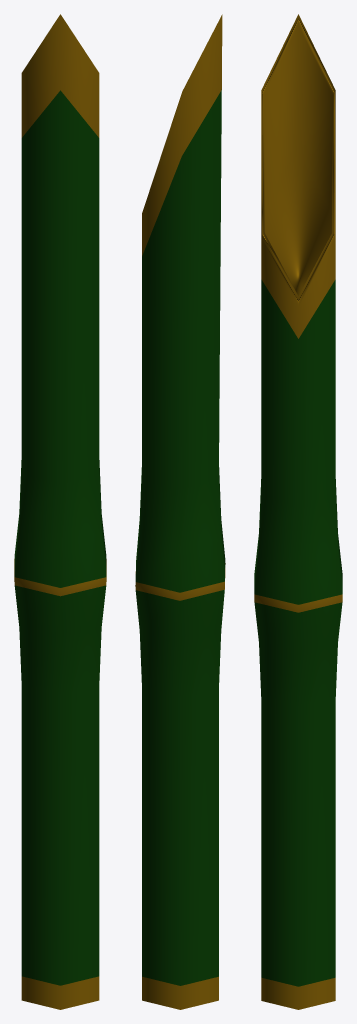
Rendered from BambooCutAv1.fbx.
The picture shows the model from 3 angles, left to right: view 1: azimuth 90°, elevation 25°; view 2: azimuth 150°, elevation 25°; view 3: azimuth 270°, elevation 25°; orthographic projection. The views are drawn at different scales.
Parts seen in each view (by area): view 1: BambooE.004; view 2: BambooE.004; view 3: BambooE.004.
Part boxes in pixels (x1,y1,x2,y2): BambooE.004: (14, 14, 106, 1009); BambooE.004: (135, 14, 225, 1009); BambooE.004: (254, 14, 342, 1009).
Size of the model in its own units: 10.85 by 115 by 9.62.
